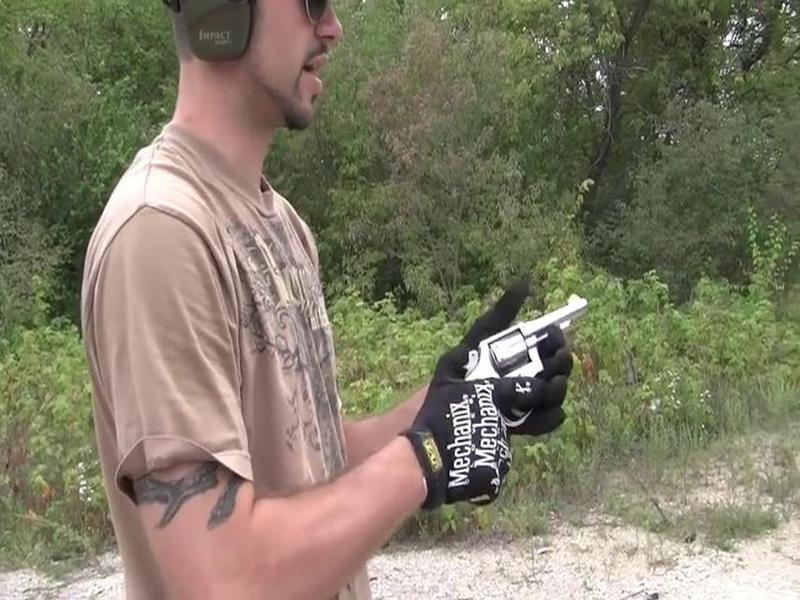Revolver: (445, 279, 608, 447)
